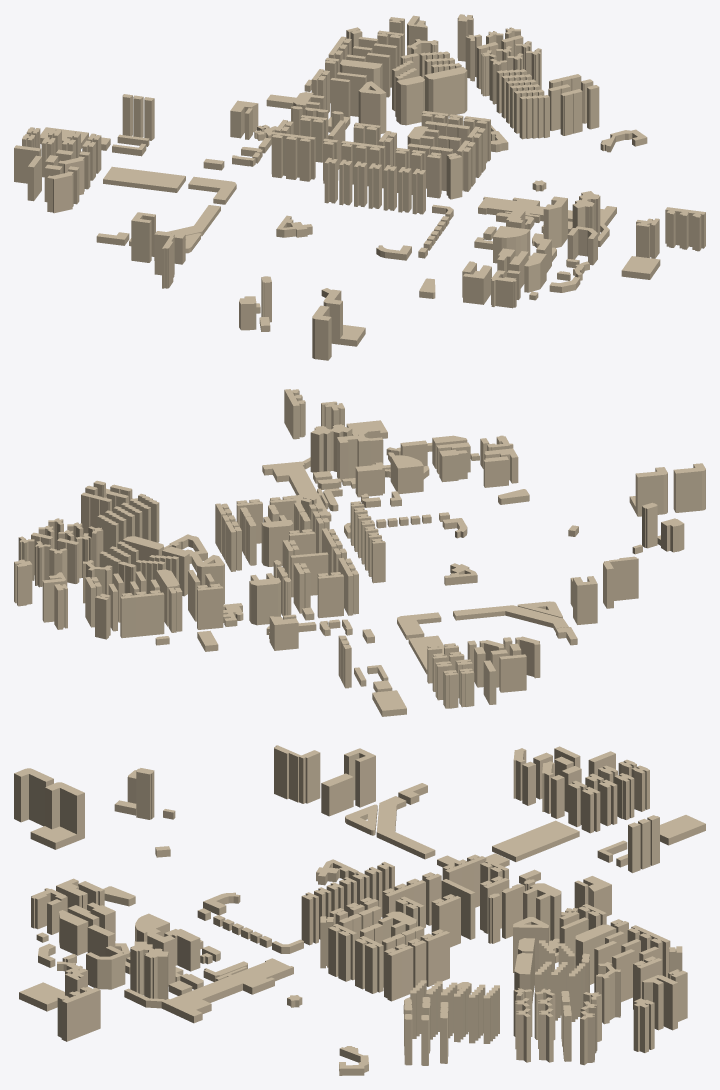
The model's file is -13_3-estimated-coarse.glb.
The picture shows the model from 3 angles, top to bottom: view 1: azimuth 30°, elevation 25°; view 2: azimuth 150°, elevation 25°; view 3: azimuth 270°, elevation 25°; orthographic projection. The views are drawn at different scales.
Bounding box in the file's own units: 1066 × 78 × 1072.
